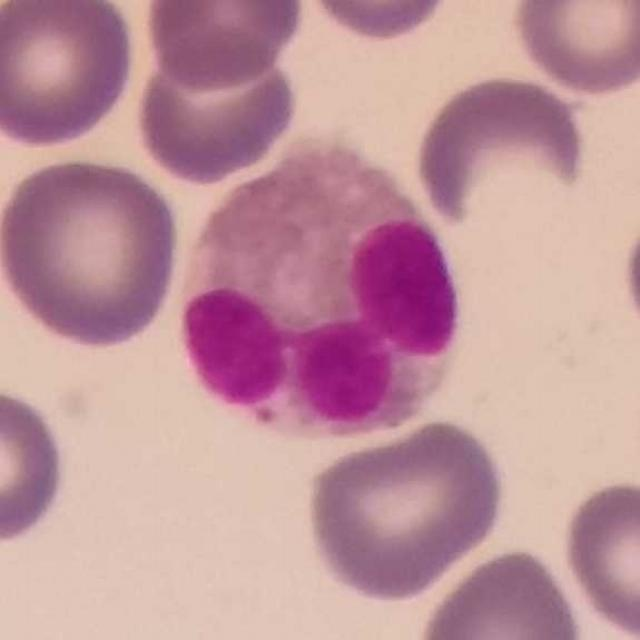eosino: (181, 148, 463, 440)
